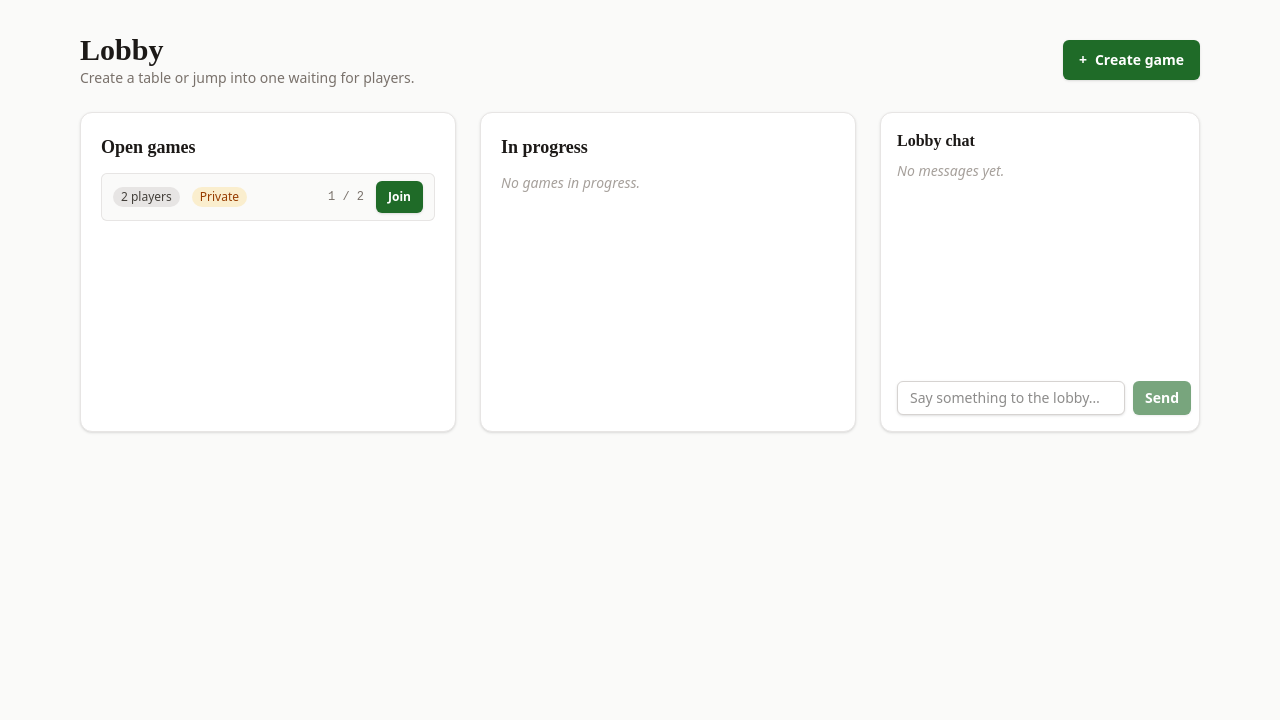
LobbyComponent join flow › does not join when the password modal is cancelled
Step 1. Click the button with test id "join-button" → [400, 197], box top-left (376, 181), bottom-right (423, 213)
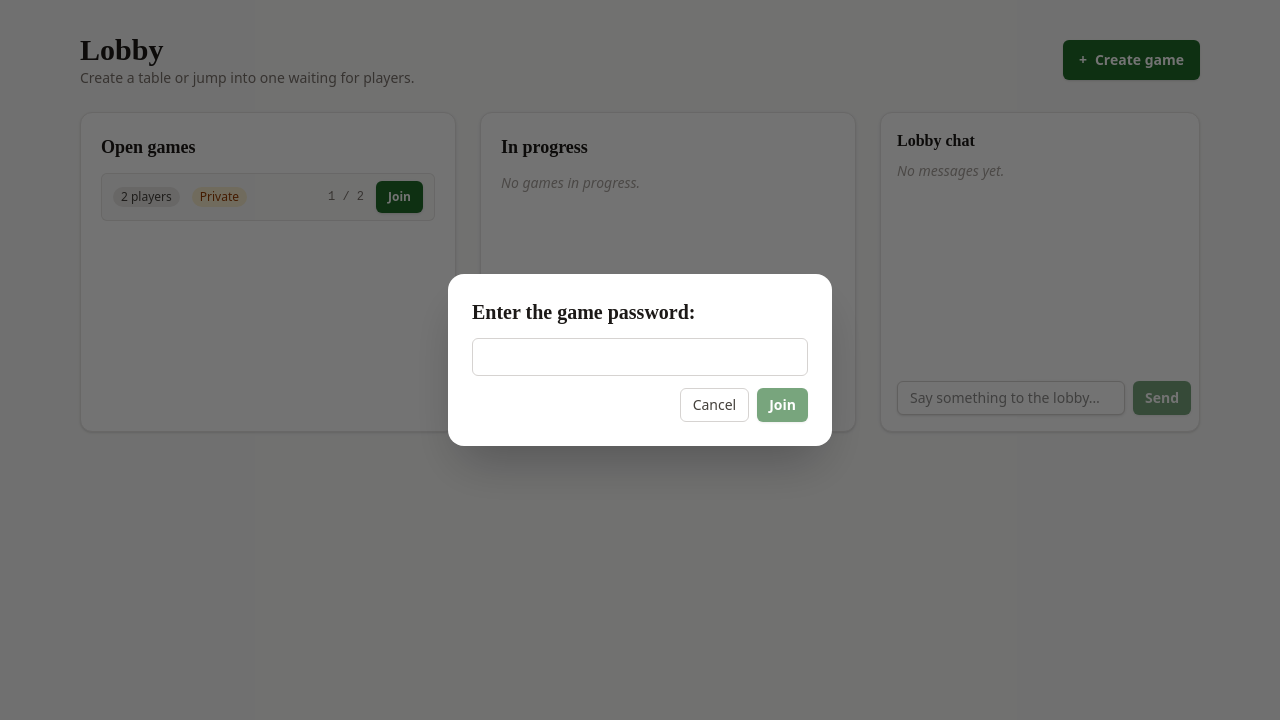
Step 2. Click the button with test id "join-password-cancel" → [714, 405], box top-left (680, 388), bottom-right (749, 422)
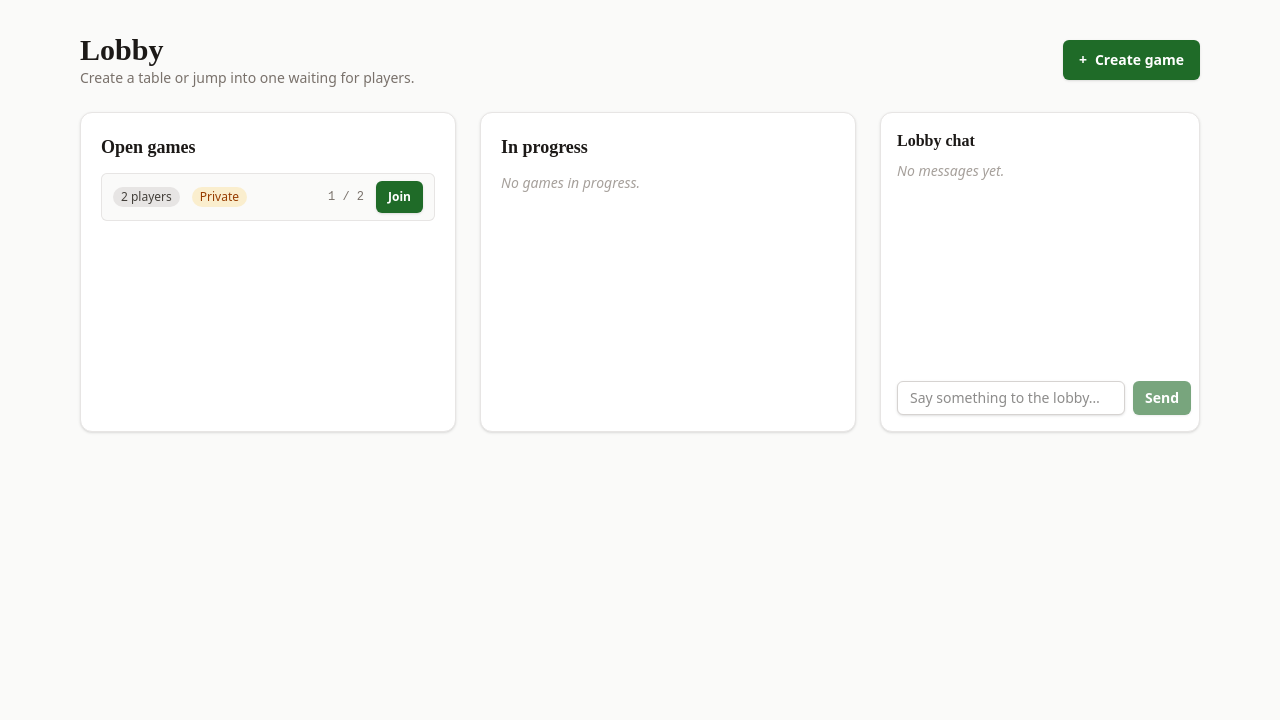
Result: the dialog with test id "join-password-dialog" is gone
